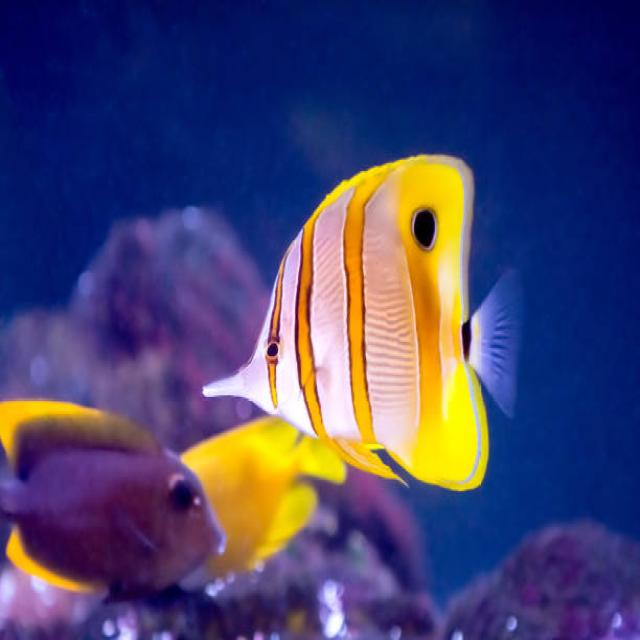ButterflyFish: (201, 152, 521, 495)
